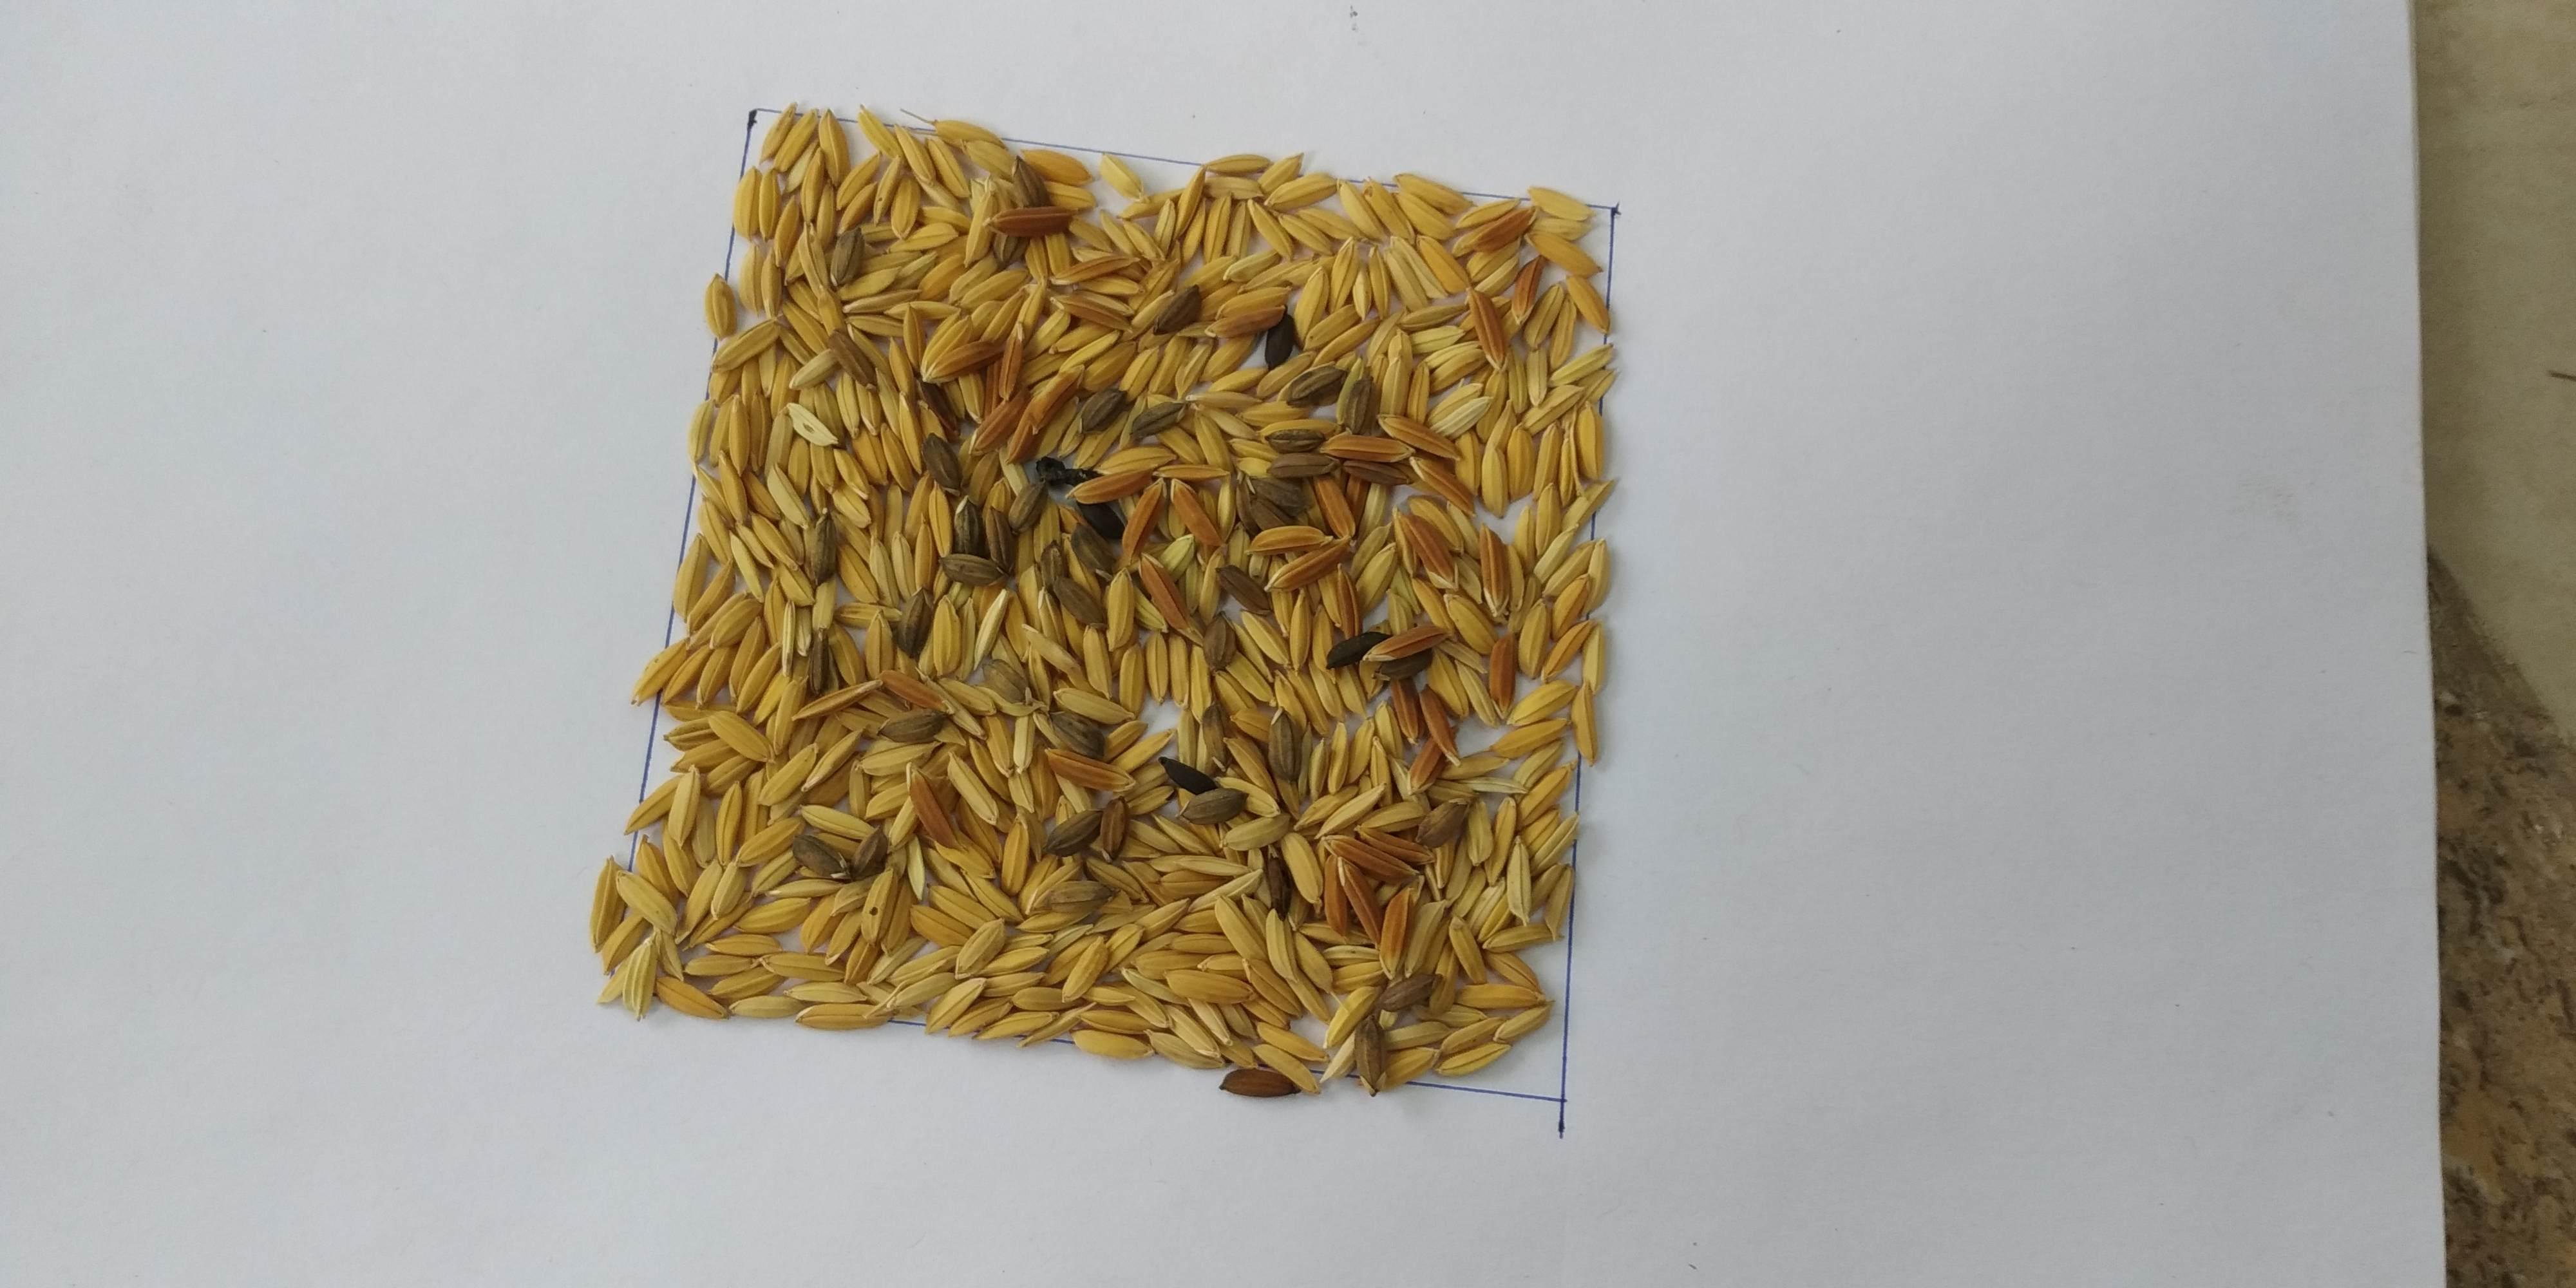impure: (744, 195, 1536, 1004)
